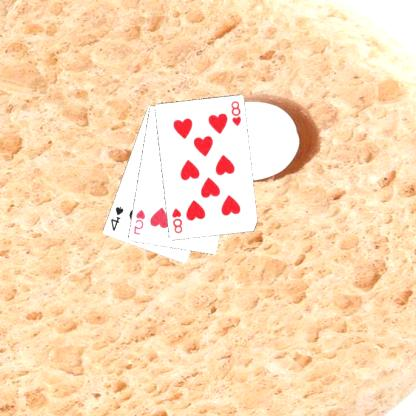4S: (110, 204, 126, 232)
5H: (133, 207, 148, 236)
8H: (171, 206, 186, 235), (230, 98, 244, 127)
